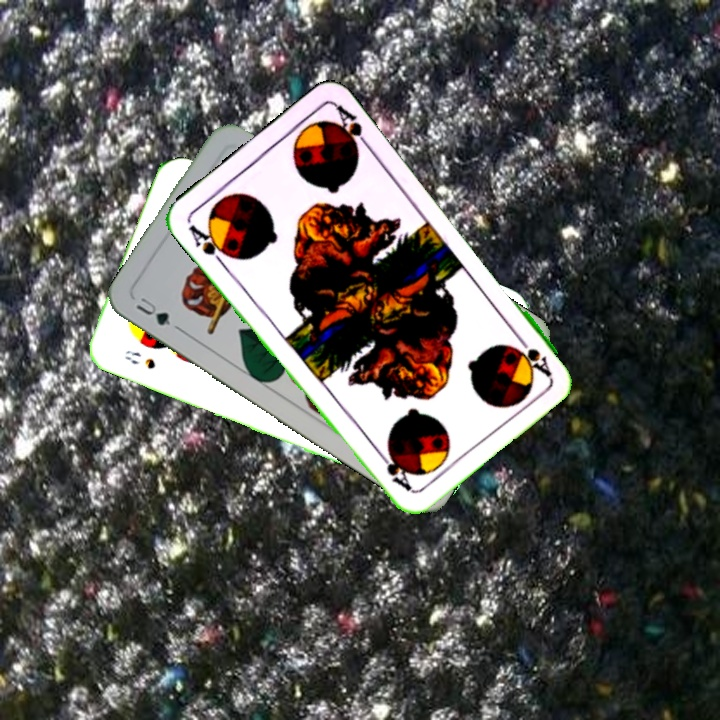GU: (132, 293, 173, 329)
S8: (120, 346, 158, 372)
SA: (184, 220, 235, 269), (511, 329, 554, 379)
